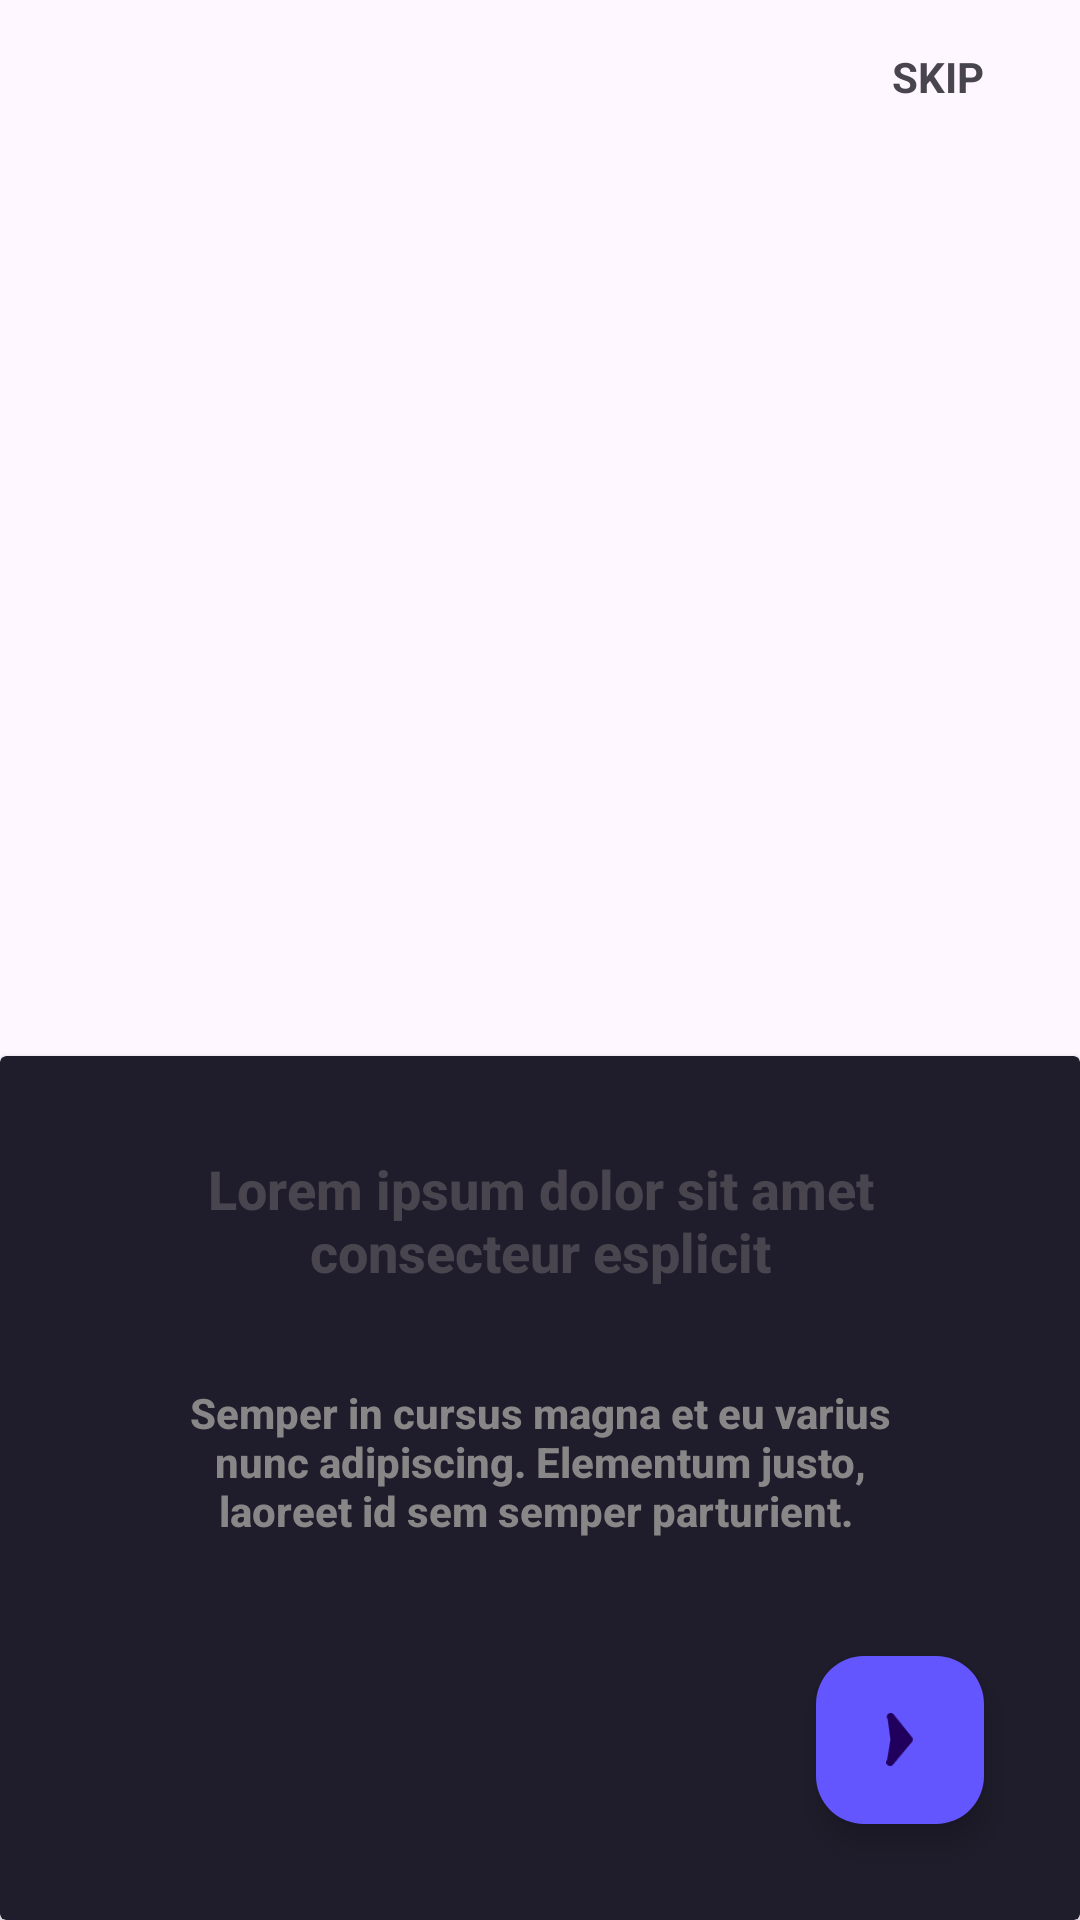

Point at icon controls on the screen. Image size 1080px x 1920px, points as [x,y].
fabvector: [900,1740]
